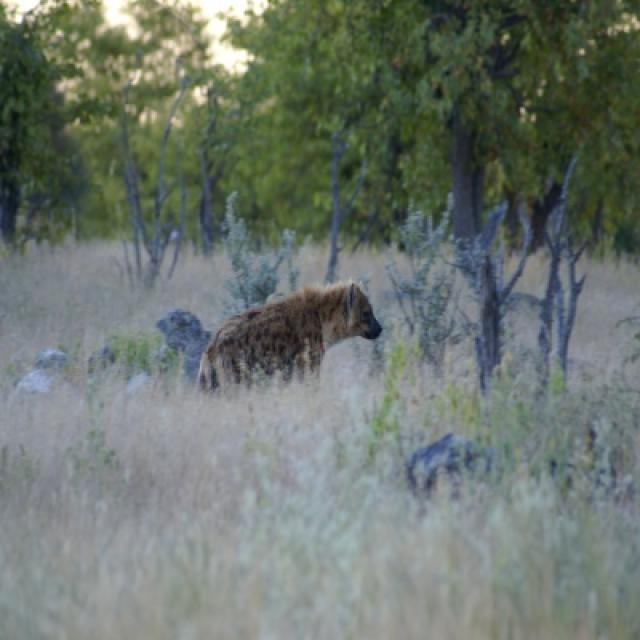hyena: (198, 285, 381, 389)
